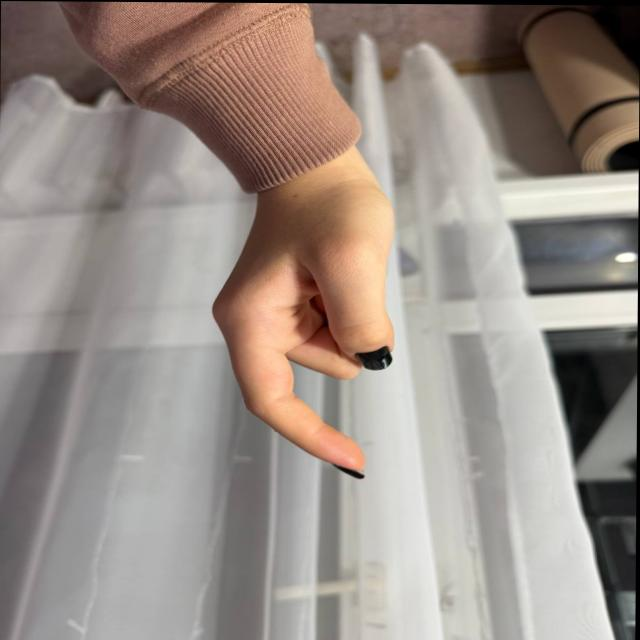kh: (193, 139, 444, 495)
